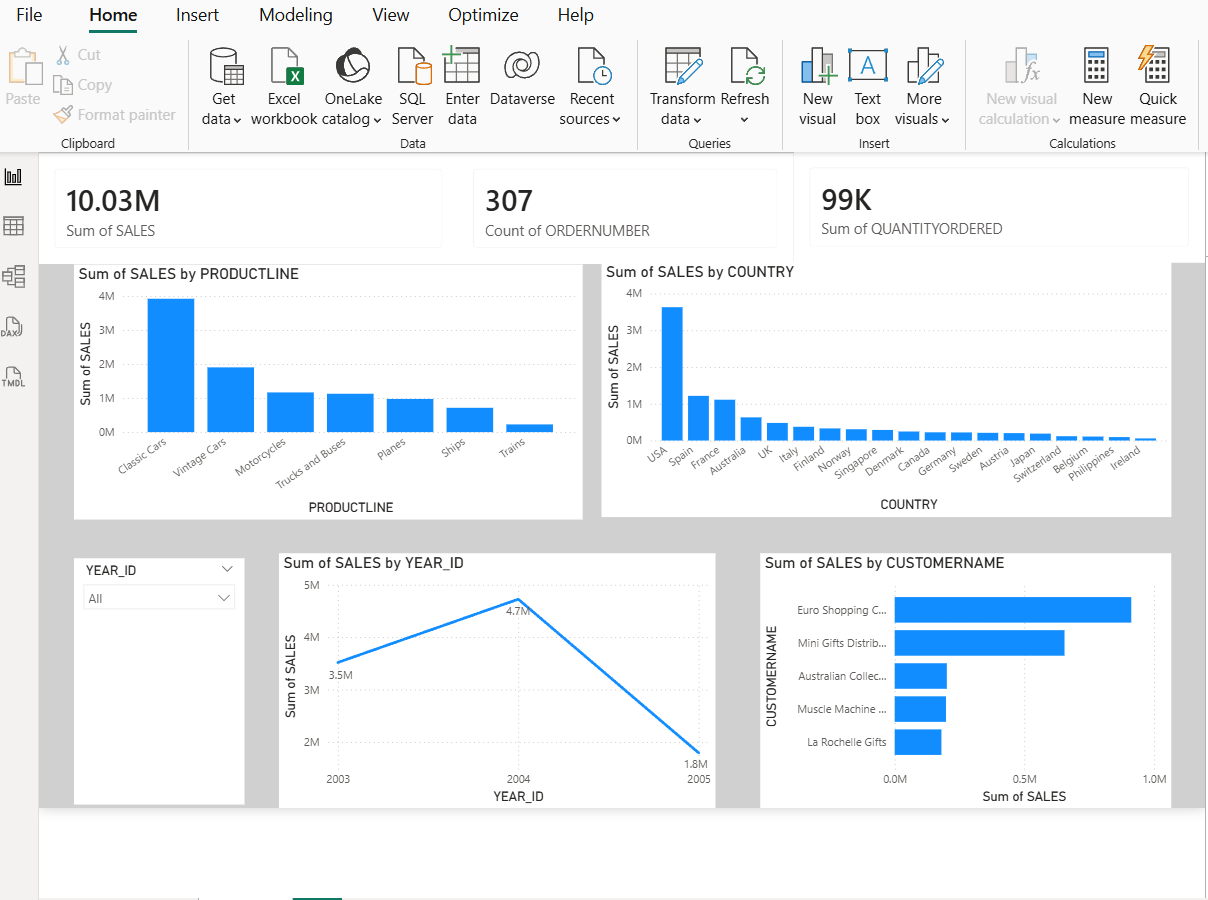

The dashboard page shown, as its layout file describes it:
{"tool":"powerbi","page":{"name":"Page 1","canvas":[1280,720],"ordinal":0},"visuals":[{"type":"cardVisual","fields":{"Data":["Sum(sales_data_sample.SALES)"]},"box":[0,1.4,460,121.4],"z":0},{"type":"cardVisual","fields":{"Data":["Count(sales_data_sample.ORDERNUMBER)"]},"box":[460,1.4,368.6,121.4],"z":1000},{"type":"cardVisual","fields":{"Data":["Sum(sales_data_sample.QUANTITYORDERED)"]},"box":[828.6,0,451.4,121.4],"z":2000},{"type":"clusteredColumnChart","fields":{"Category":["sales_data_sample.PRODUCTLINE"],"Y":["Sum(sales_data_sample.SALES)"]},"box":[38.6,122.9,558.6,280],"z":3000},{"type":"clusteredColumnChart","fields":{"Category":["sales_data_sample.COUNTRY"],"Y":["Sum(sales_data_sample.SALES)"]},"box":[617.1,121.4,625.7,280],"z":4000},{"type":"slicer","fields":{"Values":["sales_data_sample.YEAR_ID"]},"box":[38.6,445.7,187.1,270],"z":5000},{"type":"lineChart","fields":{"Category":["sales_data_sample.YEAR_ID"],"Y":["Sum(sales_data_sample.SALES)"]},"box":[263.5,440.5,478.9,279.9],"z":6000},{"type":"clusteredBarChart","fields":{"Category":["sales_data_sample.CUSTOMERNAME"],"Y":["Sum(sales_data_sample.SALES)"]},"box":[791.8,440.5,451.5,279.9],"z":7000}]}

Visuals, with their boxes on the page's 1280x720 design canvas (x1, y1, x2, y2). These are canvas units, not pixel positions in the 1208x900 screenshot, which may show the page scaled, cropped or inside an application window:
cardVisual - Sum(sales_data_sample.SALES): BBox(0, 1, 460, 123)
cardVisual - Count(sales_data_sample.ORDERNUMBER): BBox(460, 1, 829, 123)
cardVisual - Sum(sales_data_sample.QUANTITYORDERED): BBox(829, 0, 1280, 121)
clusteredColumnChart - sales_data_sample.PRODUCTLINE x Sum(sales_data_sample.SALES): BBox(39, 123, 597, 403)
clusteredColumnChart - sales_data_sample.COUNTRY x Sum(sales_data_sample.SALES): BBox(617, 121, 1243, 401)
slicer - sales_data_sample.YEAR_ID: BBox(39, 446, 226, 716)
lineChart - sales_data_sample.YEAR_ID x Sum(sales_data_sample.SALES): BBox(264, 440, 742, 720)
clusteredBarChart - sales_data_sample.CUSTOMERNAME x Sum(sales_data_sample.SALES): BBox(792, 440, 1243, 720)
